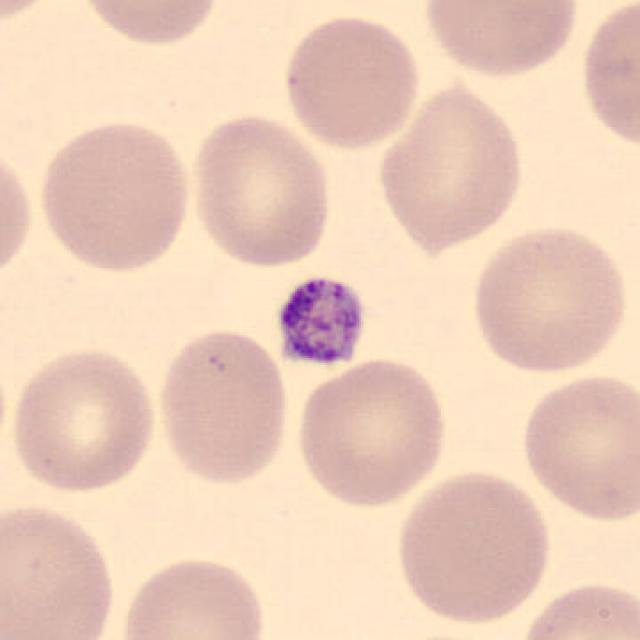Platelets: (268, 272, 370, 372)
RBC: (373, 79, 530, 254), (391, 465, 557, 626), (466, 220, 633, 378), (34, 115, 195, 275), (289, 354, 452, 512), (185, 108, 336, 272), (5, 340, 162, 497), (151, 324, 293, 488), (279, 10, 425, 152), (516, 368, 638, 526), (0, 497, 121, 640), (114, 550, 270, 640), (418, 0, 585, 81), (576, 0, 640, 155), (513, 576, 638, 640), (73, 0, 224, 49), (0, 135, 37, 287), (0, 0, 66, 28)
